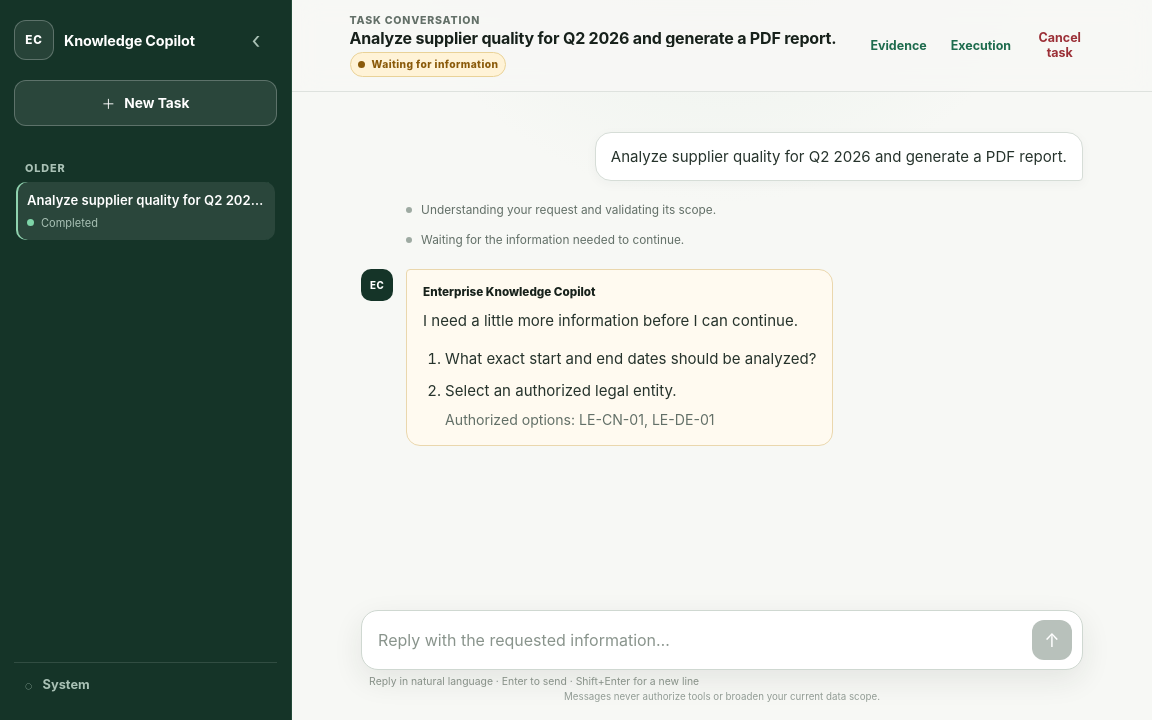
it: Chat-first Task Workspace › preserves clarification text and refreshes after a stale conflict
Type "Use LE-CN-01." into the text box named "Message the Enterprise Knowledge Copilot".
click(700, 640); type("Use LE-CN-01.")  # box [378, 621, 1022, 660]
Then press Enter
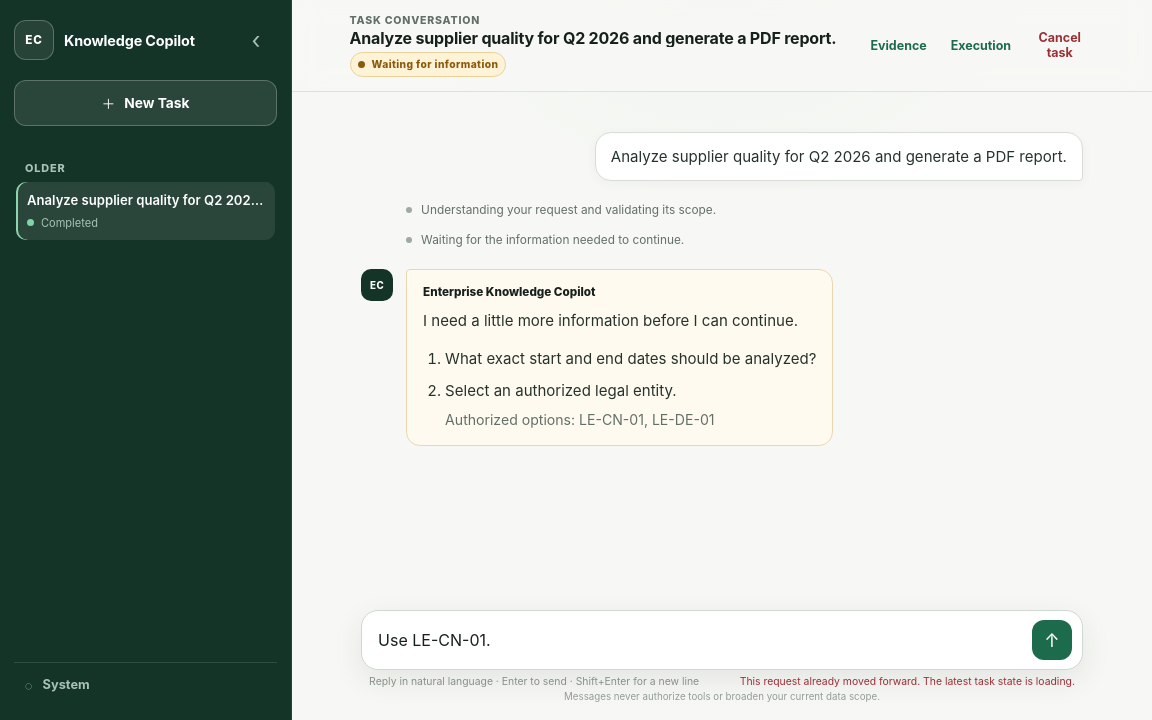
Result: the text "This request already moved forward. The latest task state is loading." is shown at [740, 675, 1075, 689]
